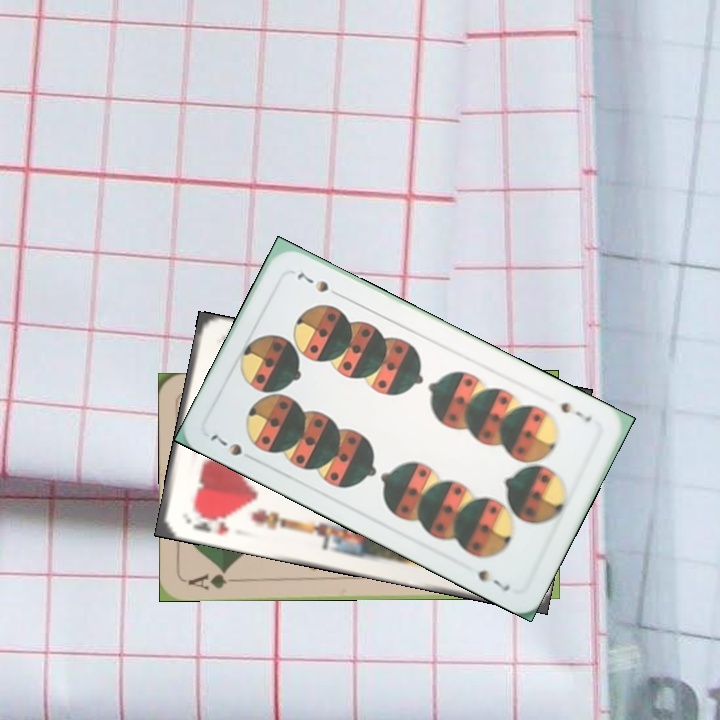GA: (184, 565, 243, 592)
HK: (182, 507, 231, 538)
S7: (206, 429, 245, 459), (555, 398, 595, 425)
